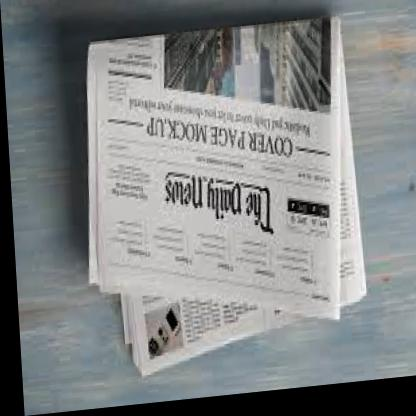Paper: (52, 0, 392, 392)
